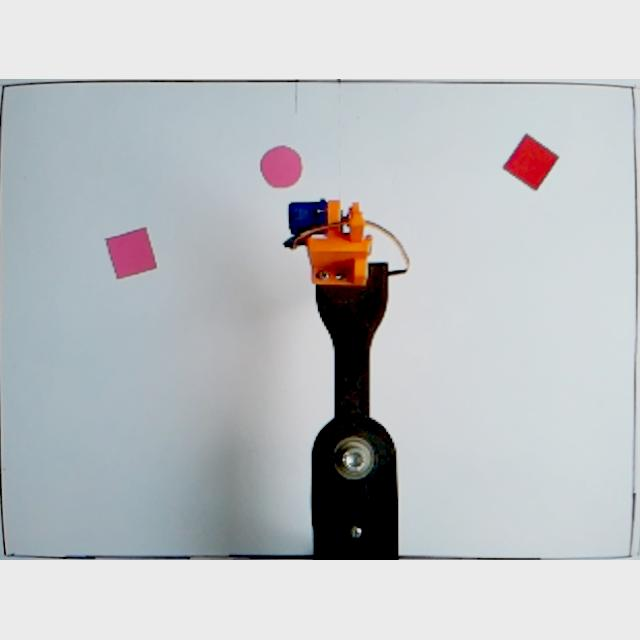pinkCircle: (260, 146, 304, 190)
pinkSquare: (104, 227, 158, 281)
redSquare: (502, 133, 560, 194)
